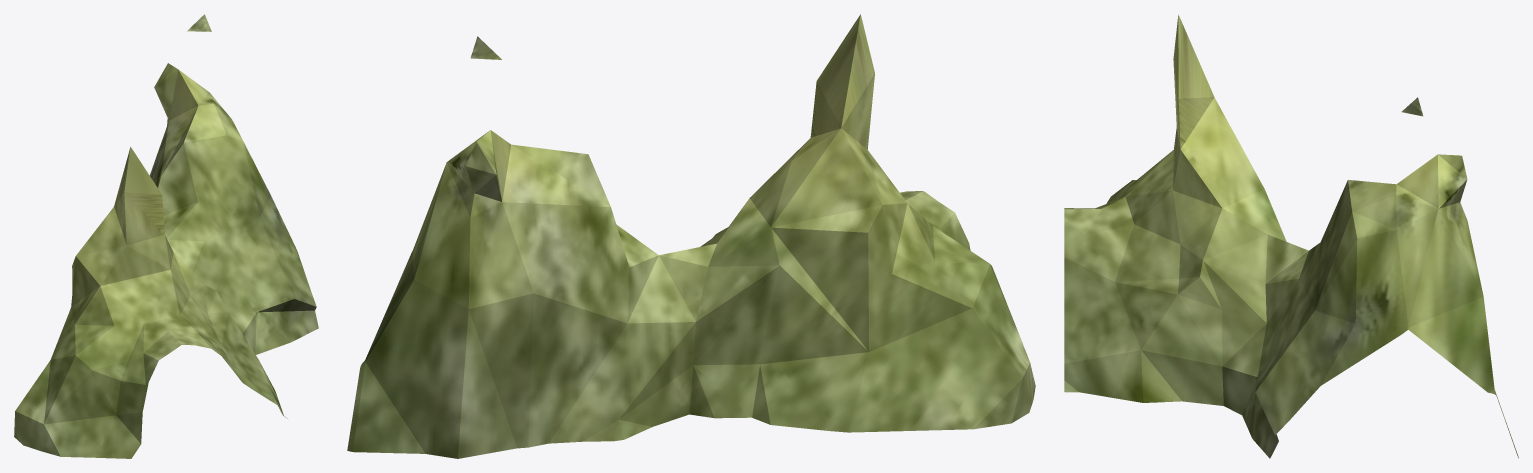
3 renders of one model, left to right at view 1: azimuth 30°, elevation 25°; view 2: azimuth 150°, elevation 25°; view 3: azimuth 270°, elevation 25°, orthographic. The views are drawn at different scales.
Bounding box in the file's own units: 1.66 × 1.3 × 1.61.
1 material, 1 textured.
